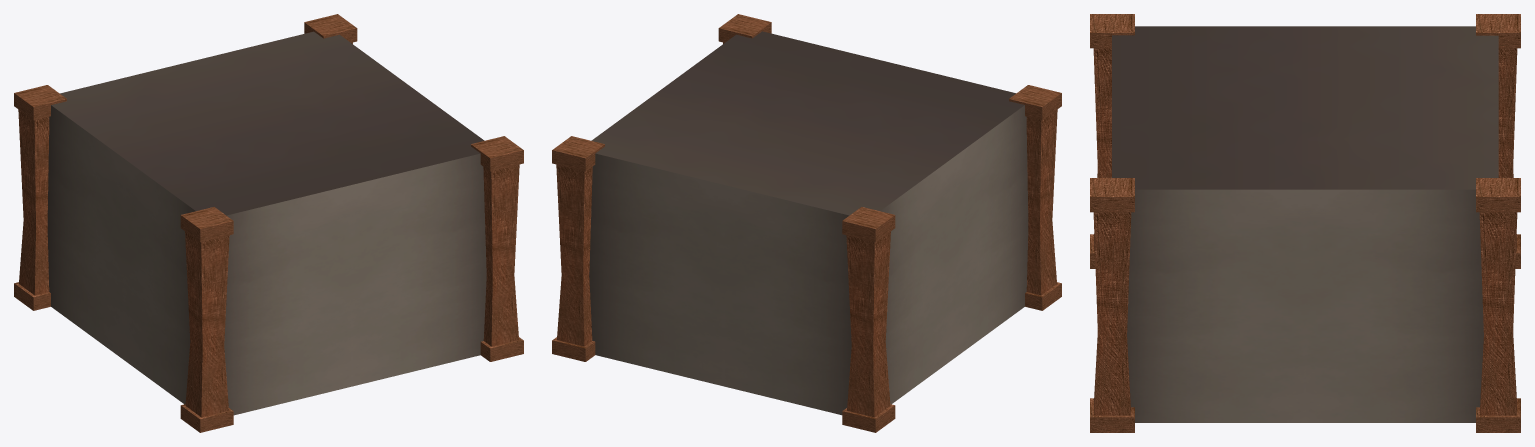
File: fanasty_mod_beams_wall_block.fbx
3 renders of one model, left to right at view 1: azimuth 30°, elevation 25°; view 2: azimuth 150°, elevation 25°; view 3: azimuth 270°, elevation 25°, orthographic. The views are drawn at different scales.
Parts seen in each view (by area): view 1: beam_wall_block; view 2: beam_wall_block; view 3: beam_wall_block.
Part boxes in pixels (box(x1,y1,x2,y2)): beam_wall_block: box(14, 14, 523, 432); beam_wall_block: box(552, 14, 1061, 432); beam_wall_block: box(1090, 14, 1520, 432).
Bounding box in the file's own units: 6.07 × 3.65 × 6.05.
